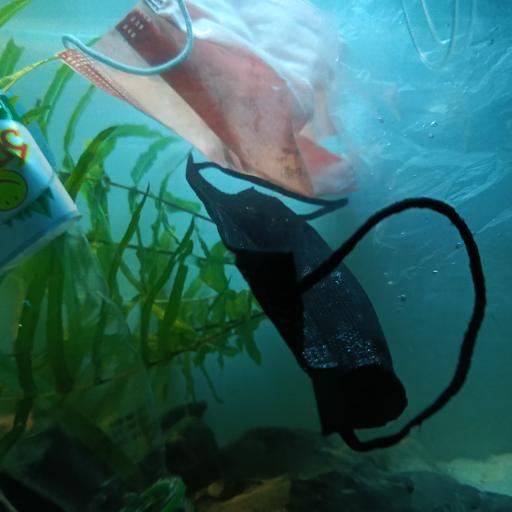mask: (188, 152, 490, 453), (57, 0, 358, 197)
plastic_bag: (321, 0, 512, 354)
plastic_bottle: (0, 92, 196, 512)
plastic_cup: (396, 0, 512, 71)
